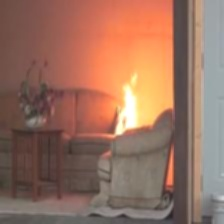fire: (112, 73, 149, 128)
